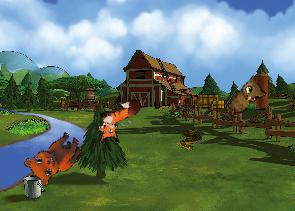bear: (19, 121, 87, 191)
fox: (89, 96, 150, 147)
owl: (222, 72, 271, 126)
